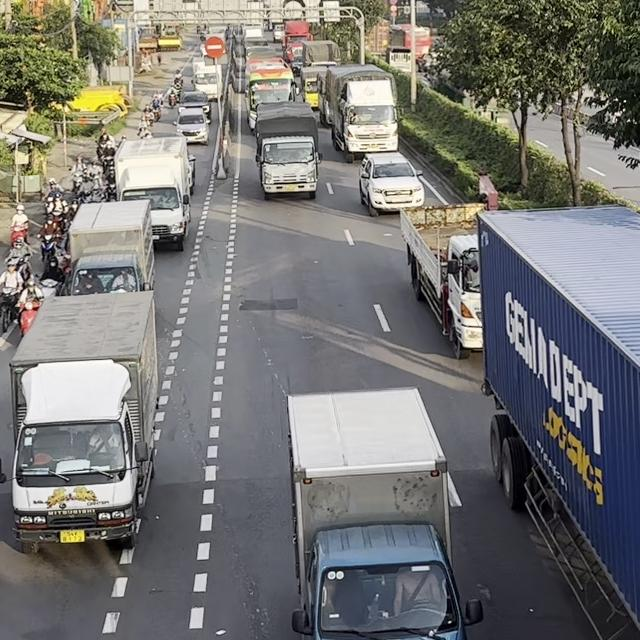bus: (244, 57, 298, 133)
car: (358, 151, 424, 217), (172, 107, 210, 145), (176, 90, 211, 120)
truck: (475, 202, 639, 639), (286, 385, 482, 639), (8, 289, 159, 554), (398, 202, 486, 359), (112, 134, 196, 251), (62, 198, 156, 295), (317, 63, 399, 163), (253, 101, 322, 200), (191, 63, 223, 101)
